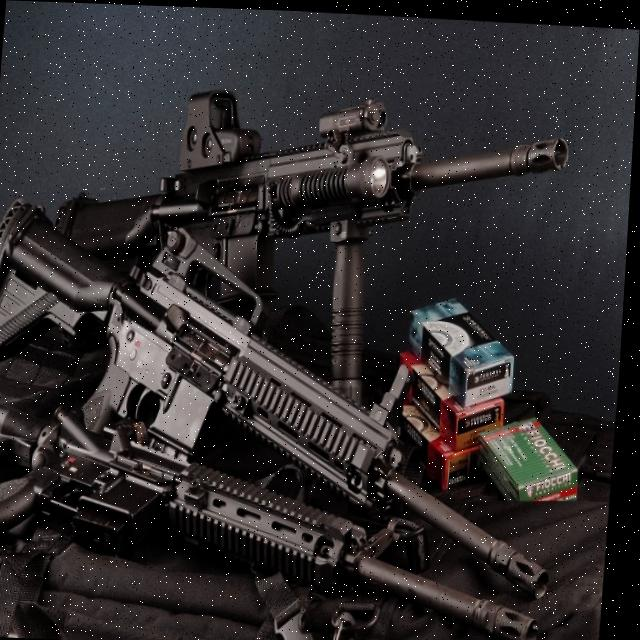firearm: (0, 195, 578, 596), (0, 379, 562, 640), (49, 76, 574, 318)
